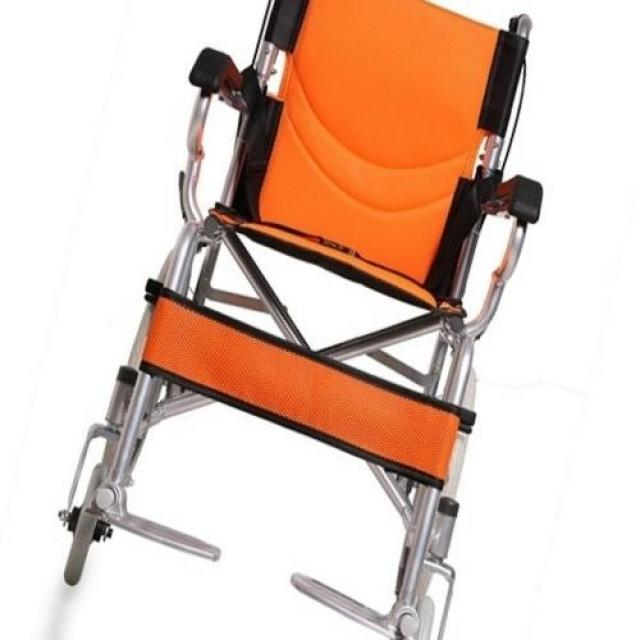wheelchair: (48, 0, 584, 640)
